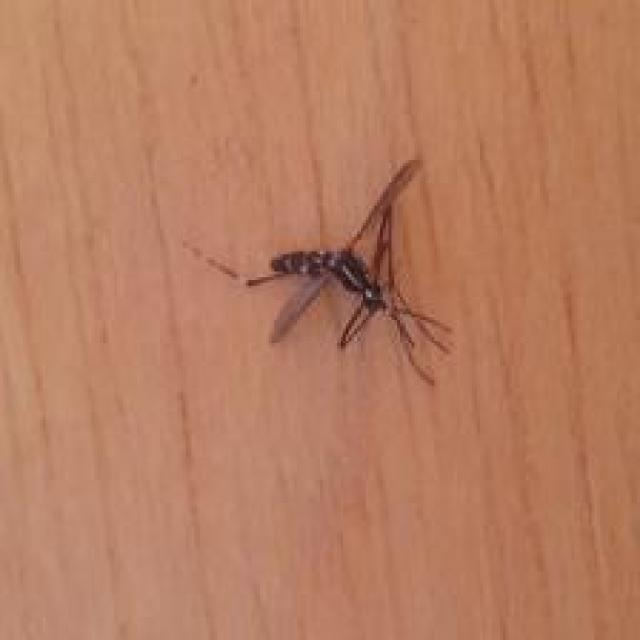Aedes albopictus: (184, 157, 456, 386)
